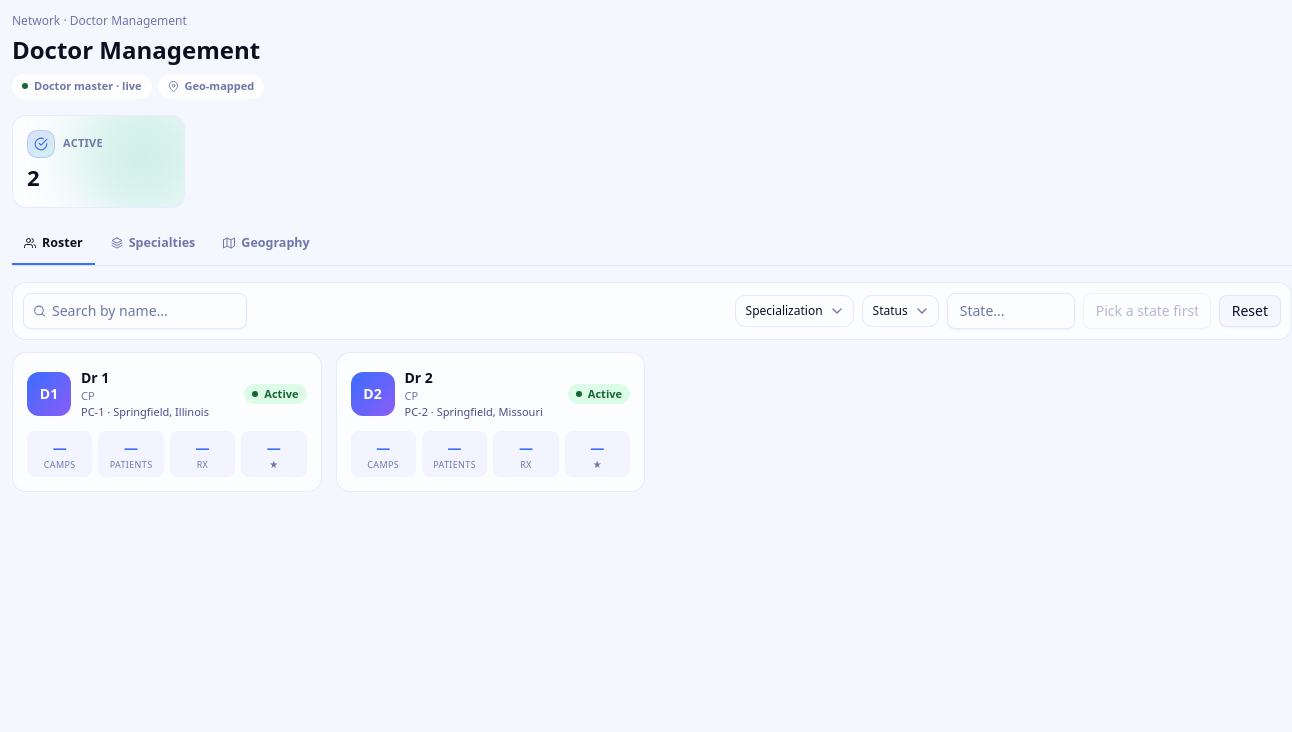
it: DoctorsPage › clicking a Geography city row jumps to the Roster tab with BOTH city and state filters set
Click the button "Geography".
click(266, 244)  # box [211, 224, 322, 265]
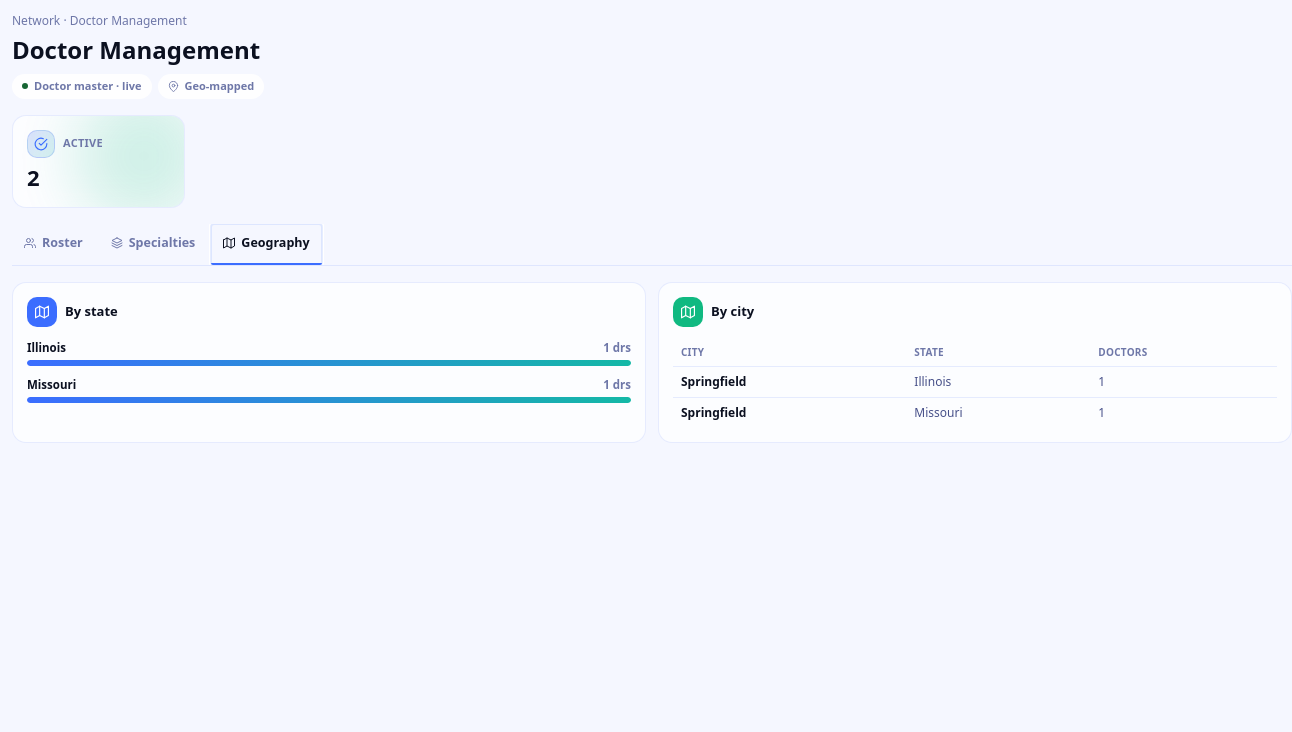
Result: the number of cells "Springfield" is 2 at [673, 366, 906, 397]; [673, 397, 906, 428]
Click the row "Missouri".
click(975, 413)  # box [673, 397, 1277, 428]
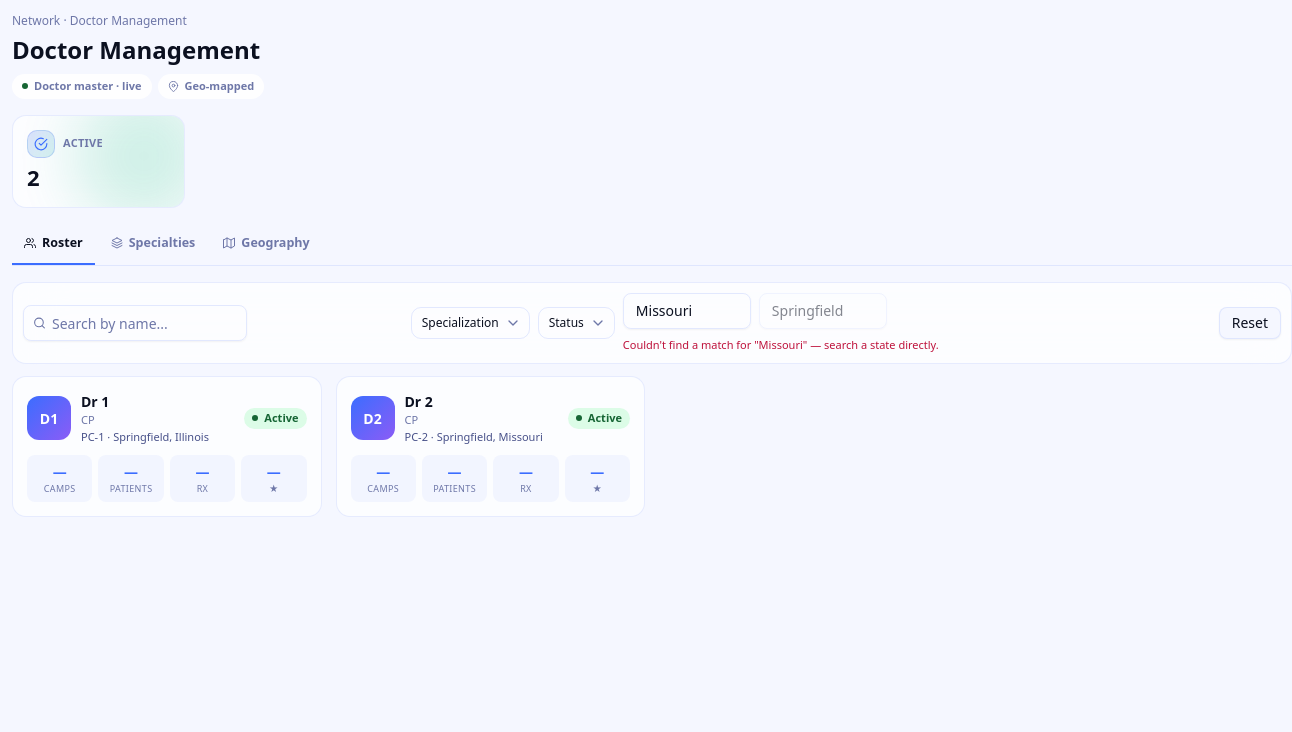
Result: the dropdown named "filter by state" holds "Missouri" at [623, 293, 751, 329]
Result: the dropdown named "filter by city" holds "Springfield" at [759, 293, 887, 329]
